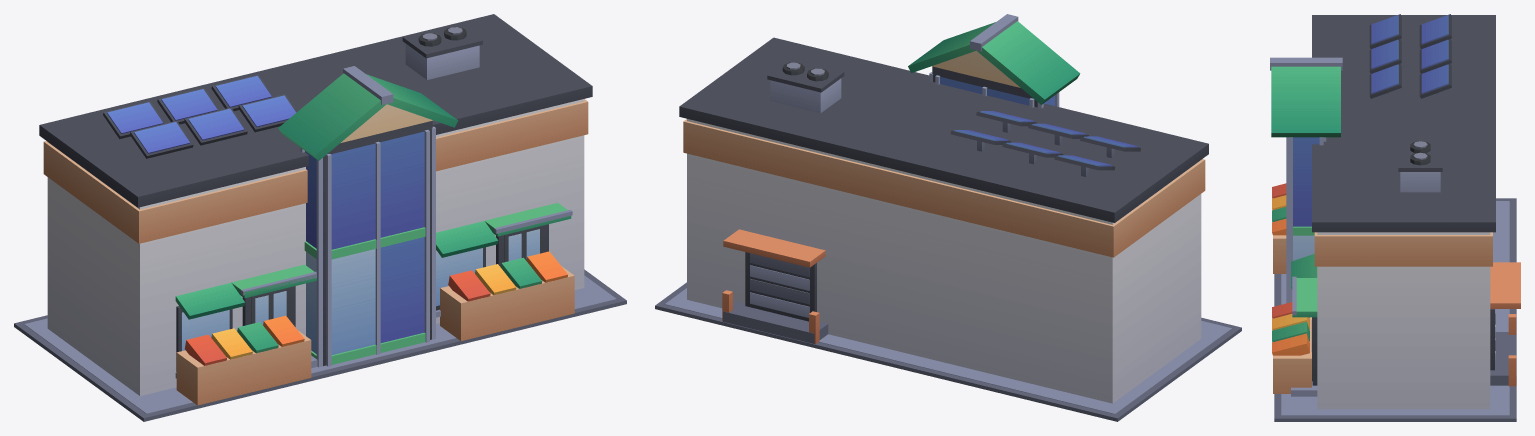
Rendered from com_neighborhood_market_2x1.glb.
3 views of the same model, side by side, from view 1: azimuth 30°, elevation 25°; view 2: azimuth 150°, elevation 25°; view 3: azimuth 270°, elevation 25° (orthographic). The views are drawn at different scales.
Visible parts, largest first — view 1: com_neighborhood_market_2x1; view 2: com_neighborhood_market_2x1; view 3: com_neighborhood_market_2x1.
Part boxes in pixels (<box>): com_neighborhood_market_2x1: <box>14,14,626,421</box>; com_neighborhood_market_2x1: <box>655,14,1241,421</box>; com_neighborhood_market_2x1: <box>1270,14,1520,421</box>.
Size of the model in its own units: 3.7 by 1.97 by 1.78.
Materials: 1 (1 with a texture image).
